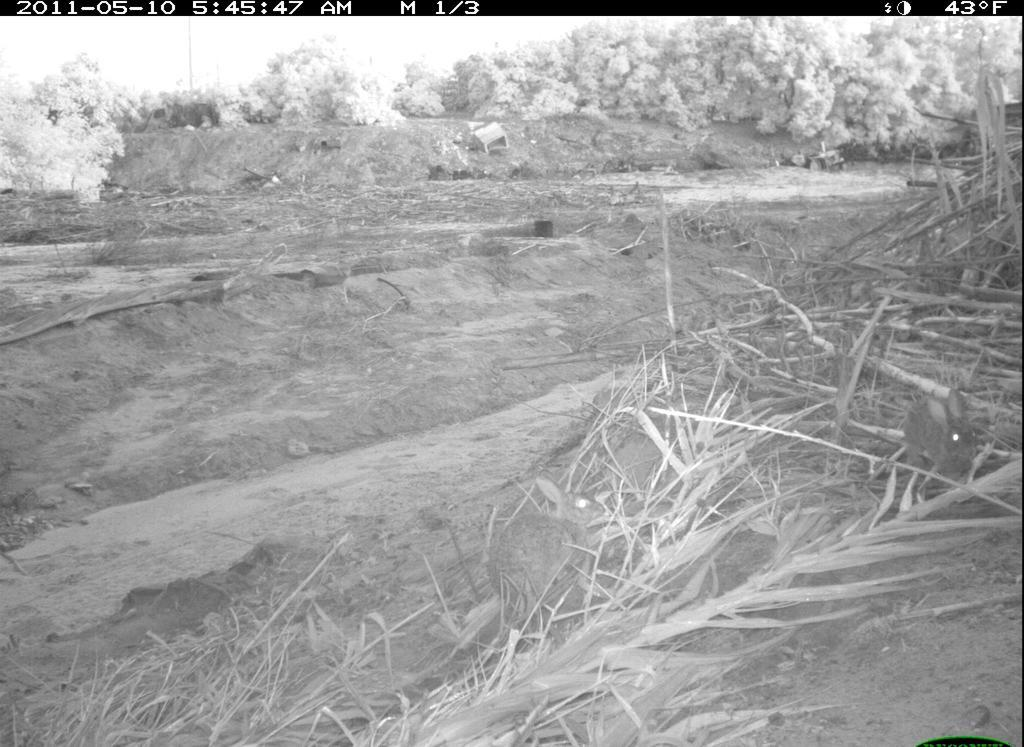rabbit: (487, 468, 612, 638)
